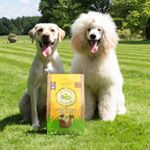puppy: (68, 9, 132, 123), (23, 21, 68, 135)
